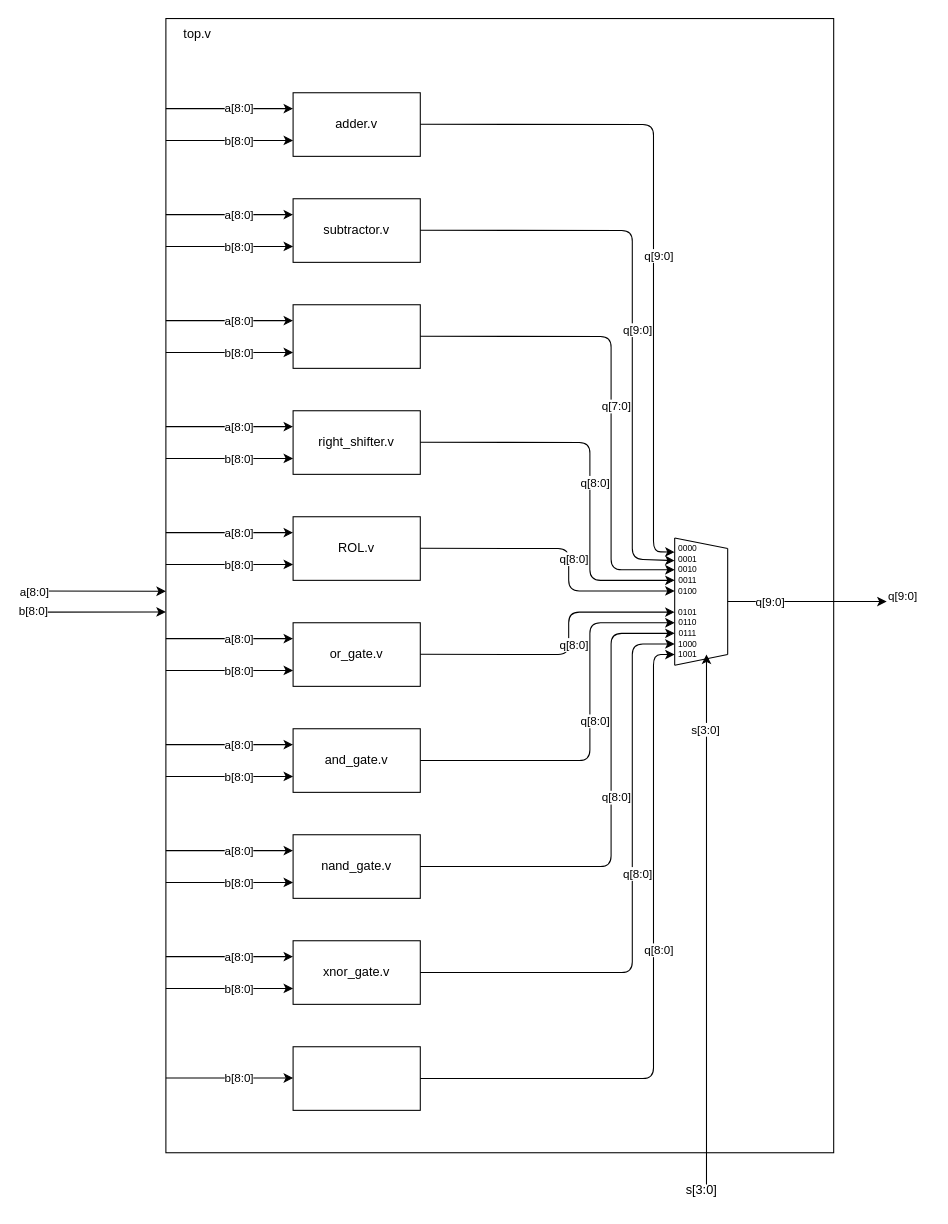
The diagram is 948 pixels wide and 1224 high, and some of its shapes have lost their labels. Here are the shapes that lost their labels. From the top down, the box of each, then its label:
(292, 304, 420, 368): multiplier.v
(292, 1046, 420, 1110): not_gate.v
